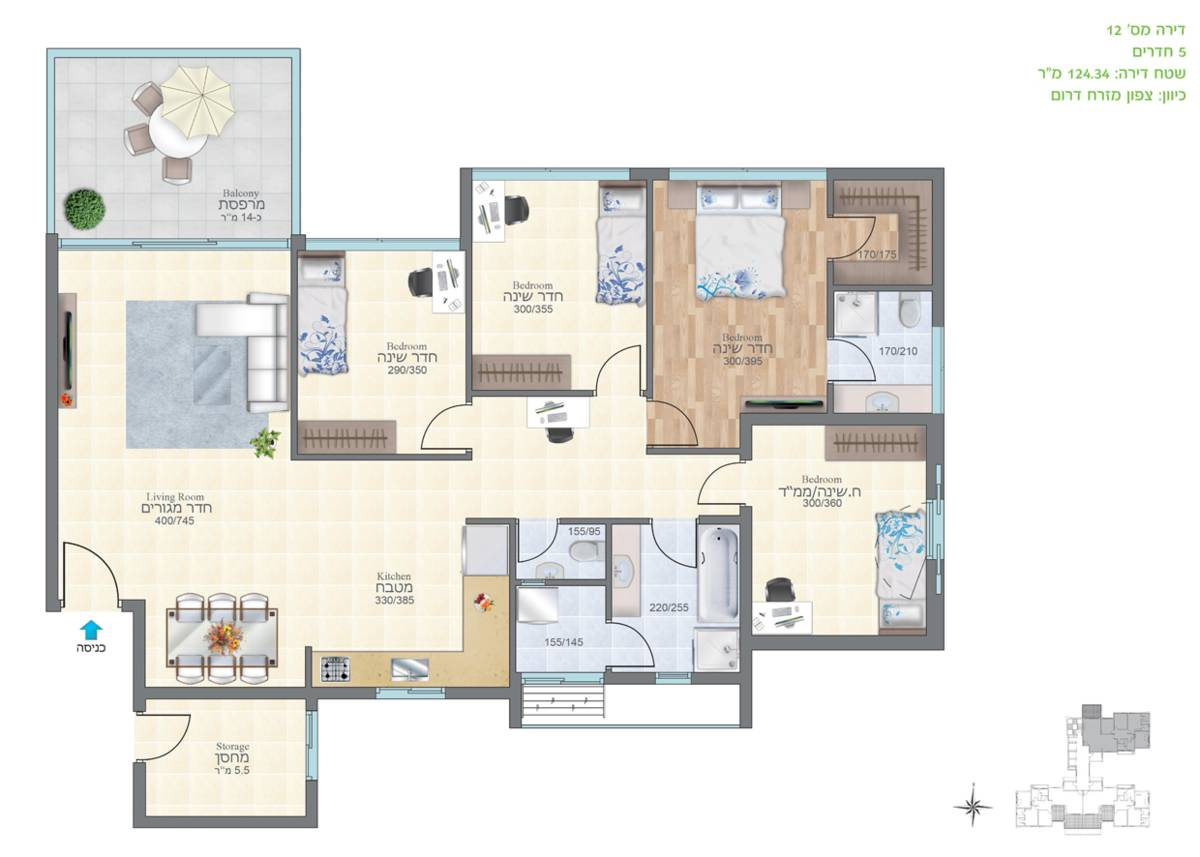door: (59, 531, 123, 593), (155, 702, 195, 766), (655, 394, 703, 446), (587, 341, 643, 384), (612, 620, 656, 670), (650, 529, 696, 572), (690, 462, 731, 509), (517, 526, 563, 563), (849, 340, 878, 384), (844, 214, 887, 243)
wall: (45, 233, 62, 614), (144, 687, 375, 700), (740, 507, 753, 729), (754, 636, 944, 650), (932, 169, 946, 327), (132, 816, 318, 827), (132, 599, 145, 713), (647, 168, 653, 397), (509, 518, 516, 713), (460, 167, 473, 251), (466, 250, 471, 406), (471, 390, 592, 396), (827, 262, 834, 338)
window: (410, 392, 459, 451), (59, 239, 291, 251), (377, 686, 444, 703), (305, 710, 321, 781), (931, 331, 945, 408), (521, 673, 600, 684), (657, 673, 690, 685)
